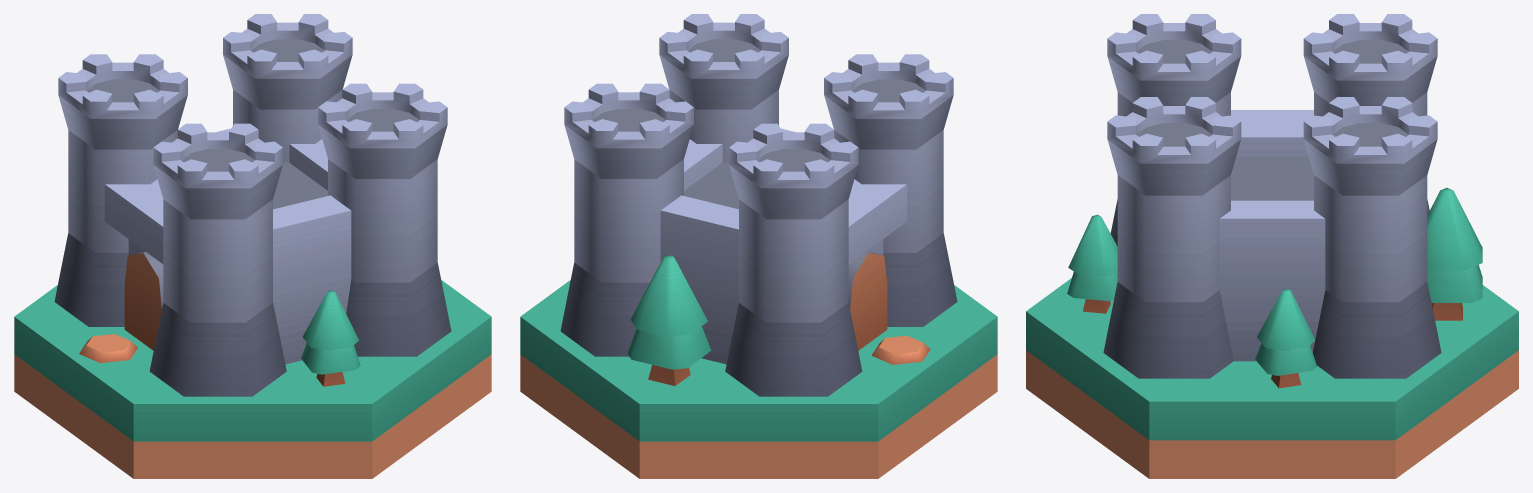
File: building-castle.glb
The picture shows the model from 3 angles, left to right: view 1: azimuth 30°, elevation 25°; view 2: azimuth 150°, elevation 25°; view 3: azimuth 270°, elevation 25°; orthographic projection. The views are drawn at different scales.
Visible parts, largest first — view 1: building-castle; view 2: building-castle; view 3: building-castle.
Part boxes in pixels (x1=…): building-castle: x1=14, y1=14, x2=491, y2=478; building-castle: x1=520, y1=14, x2=997, y2=478; building-castle: x1=1026, y1=14, x2=1518, y2=478.
Bounding box in the file's own units: 1 × 0.798 × 1.15.
1 material, 1 textured.
